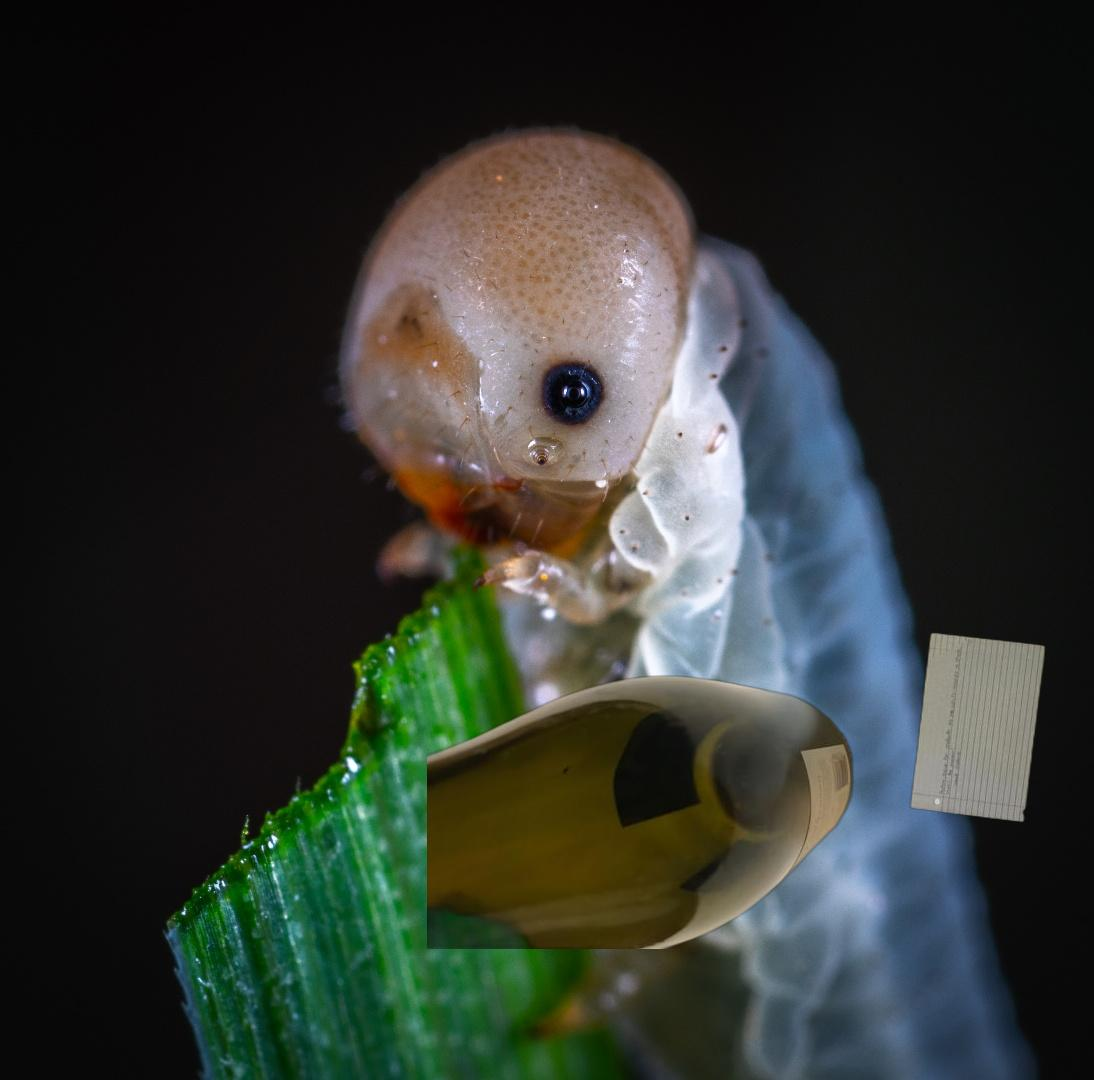glass: (427, 673, 858, 949)
paper: (905, 629, 1050, 825)
